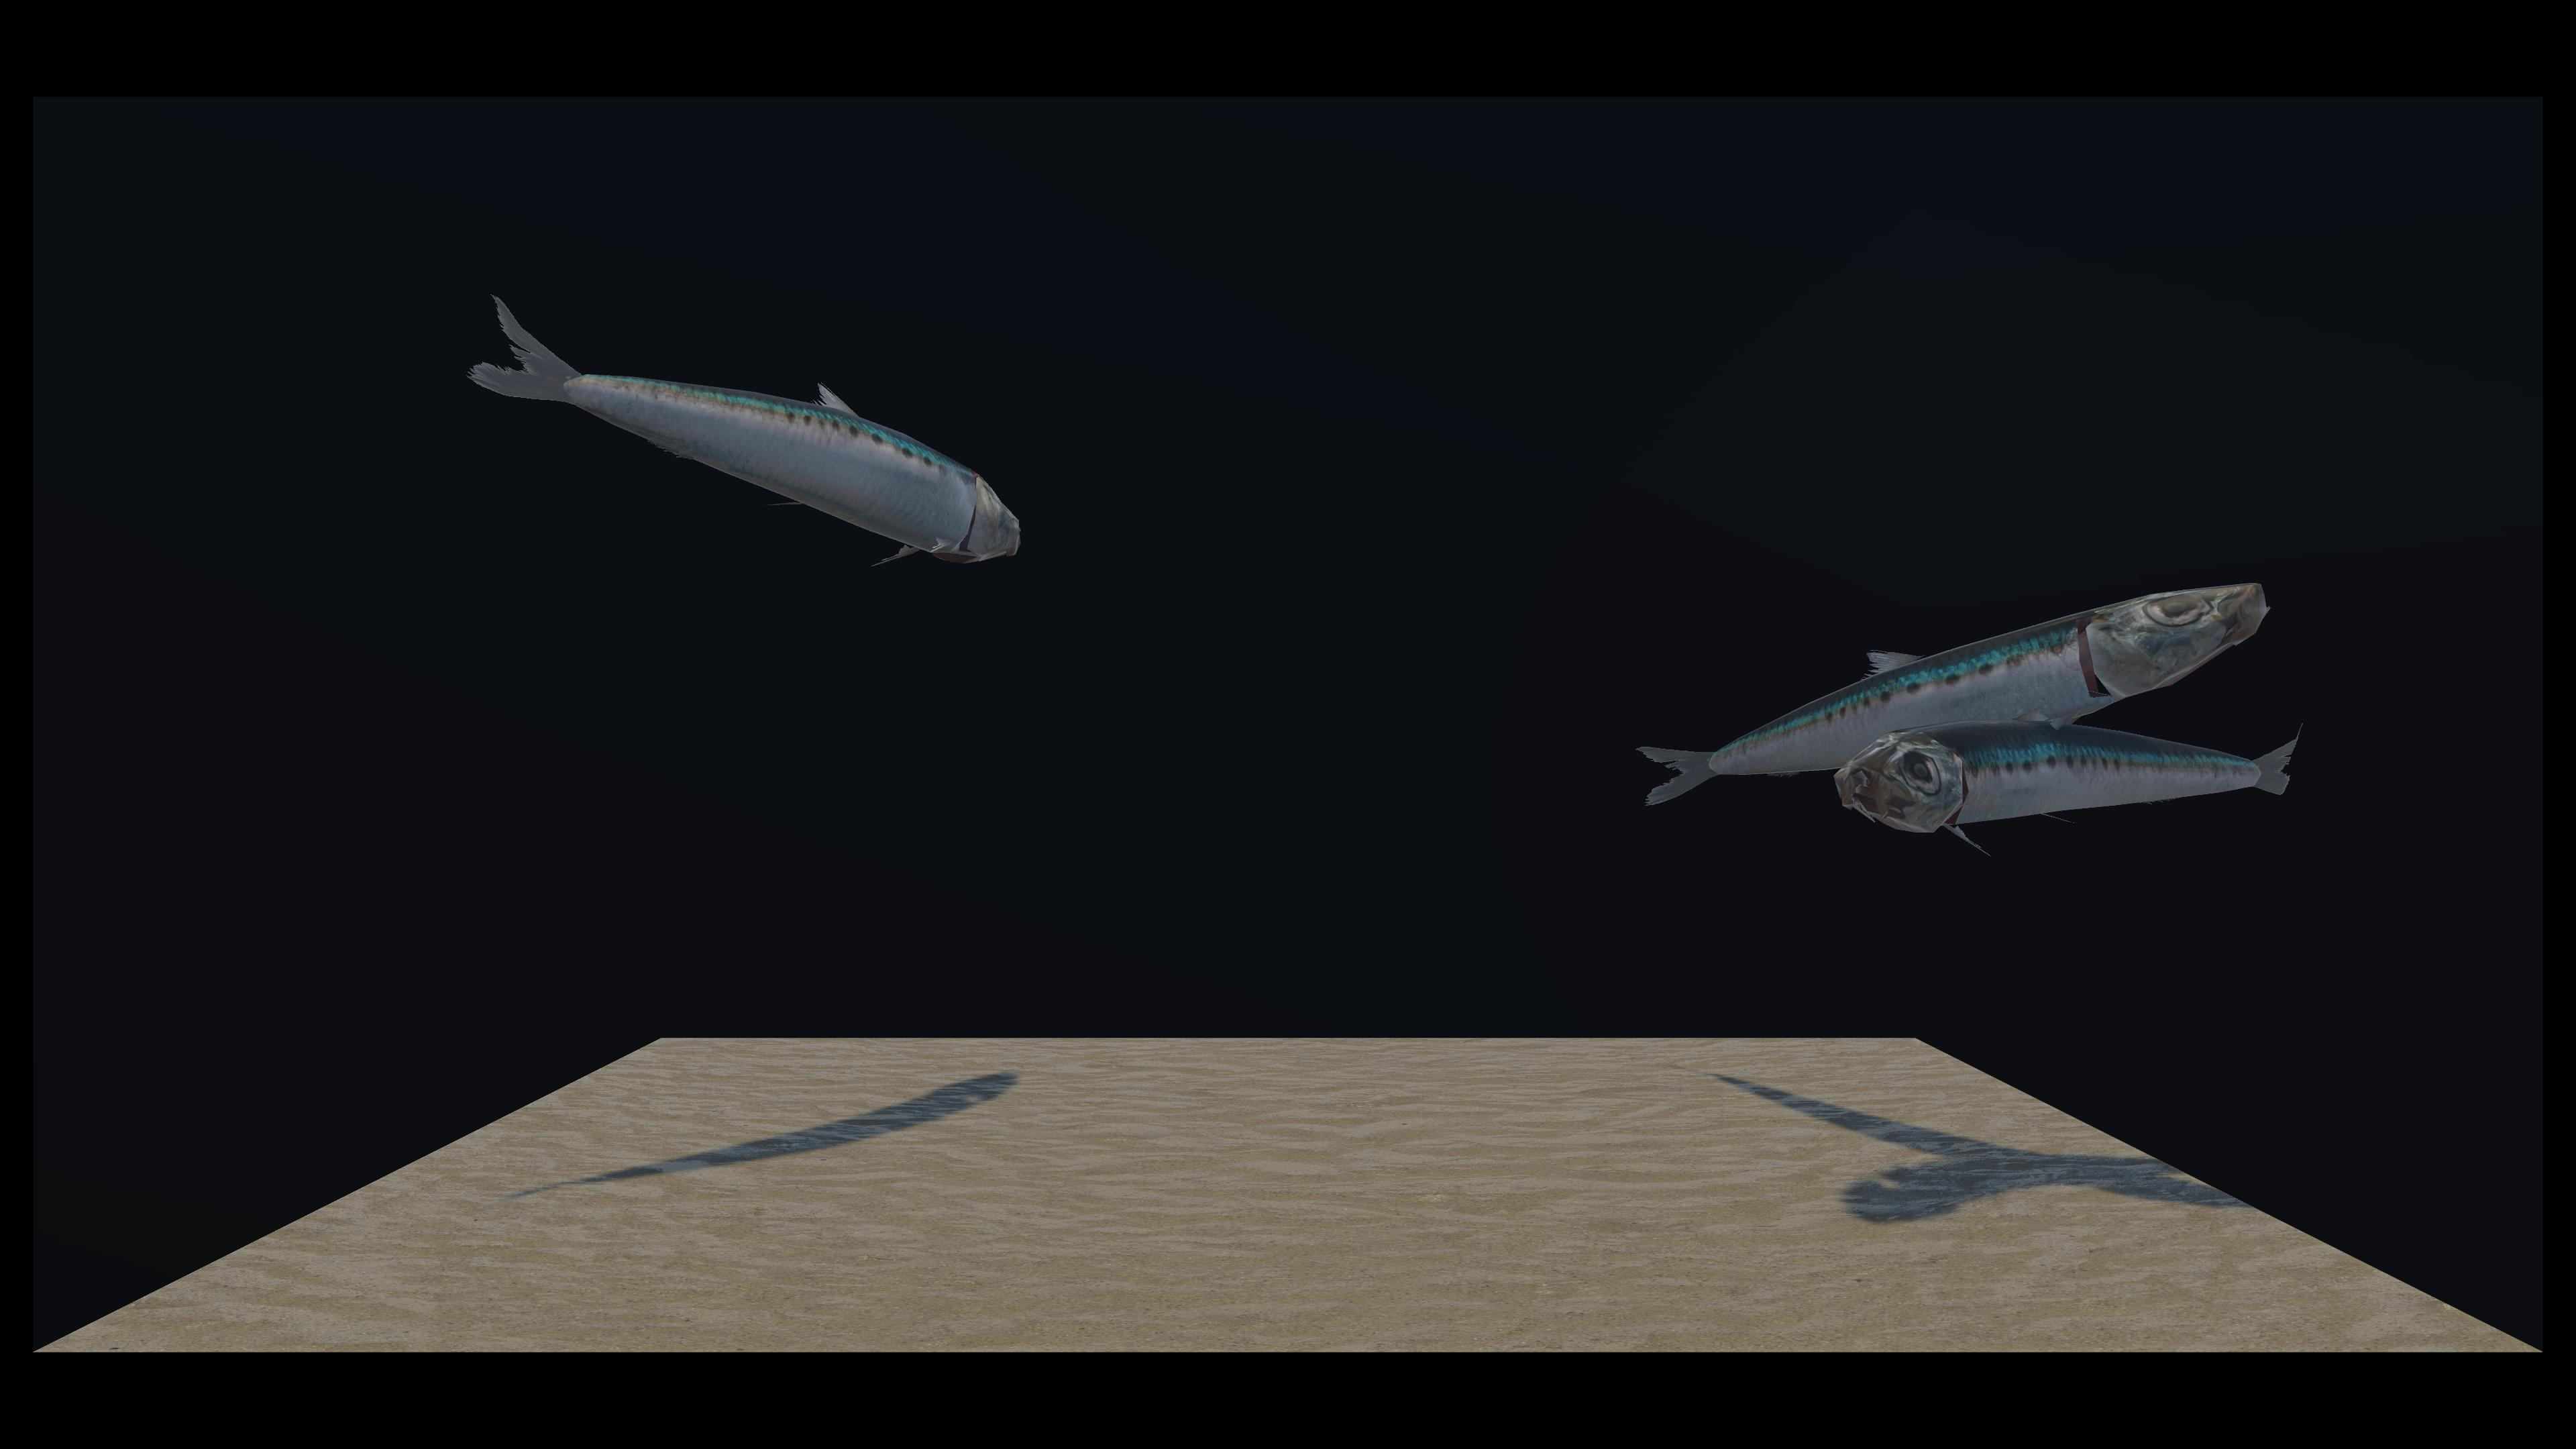Sardine_Front: (948, 349, 2304, 865), (998, 511, 2250, 805), (474, 299, 1012, 571)
